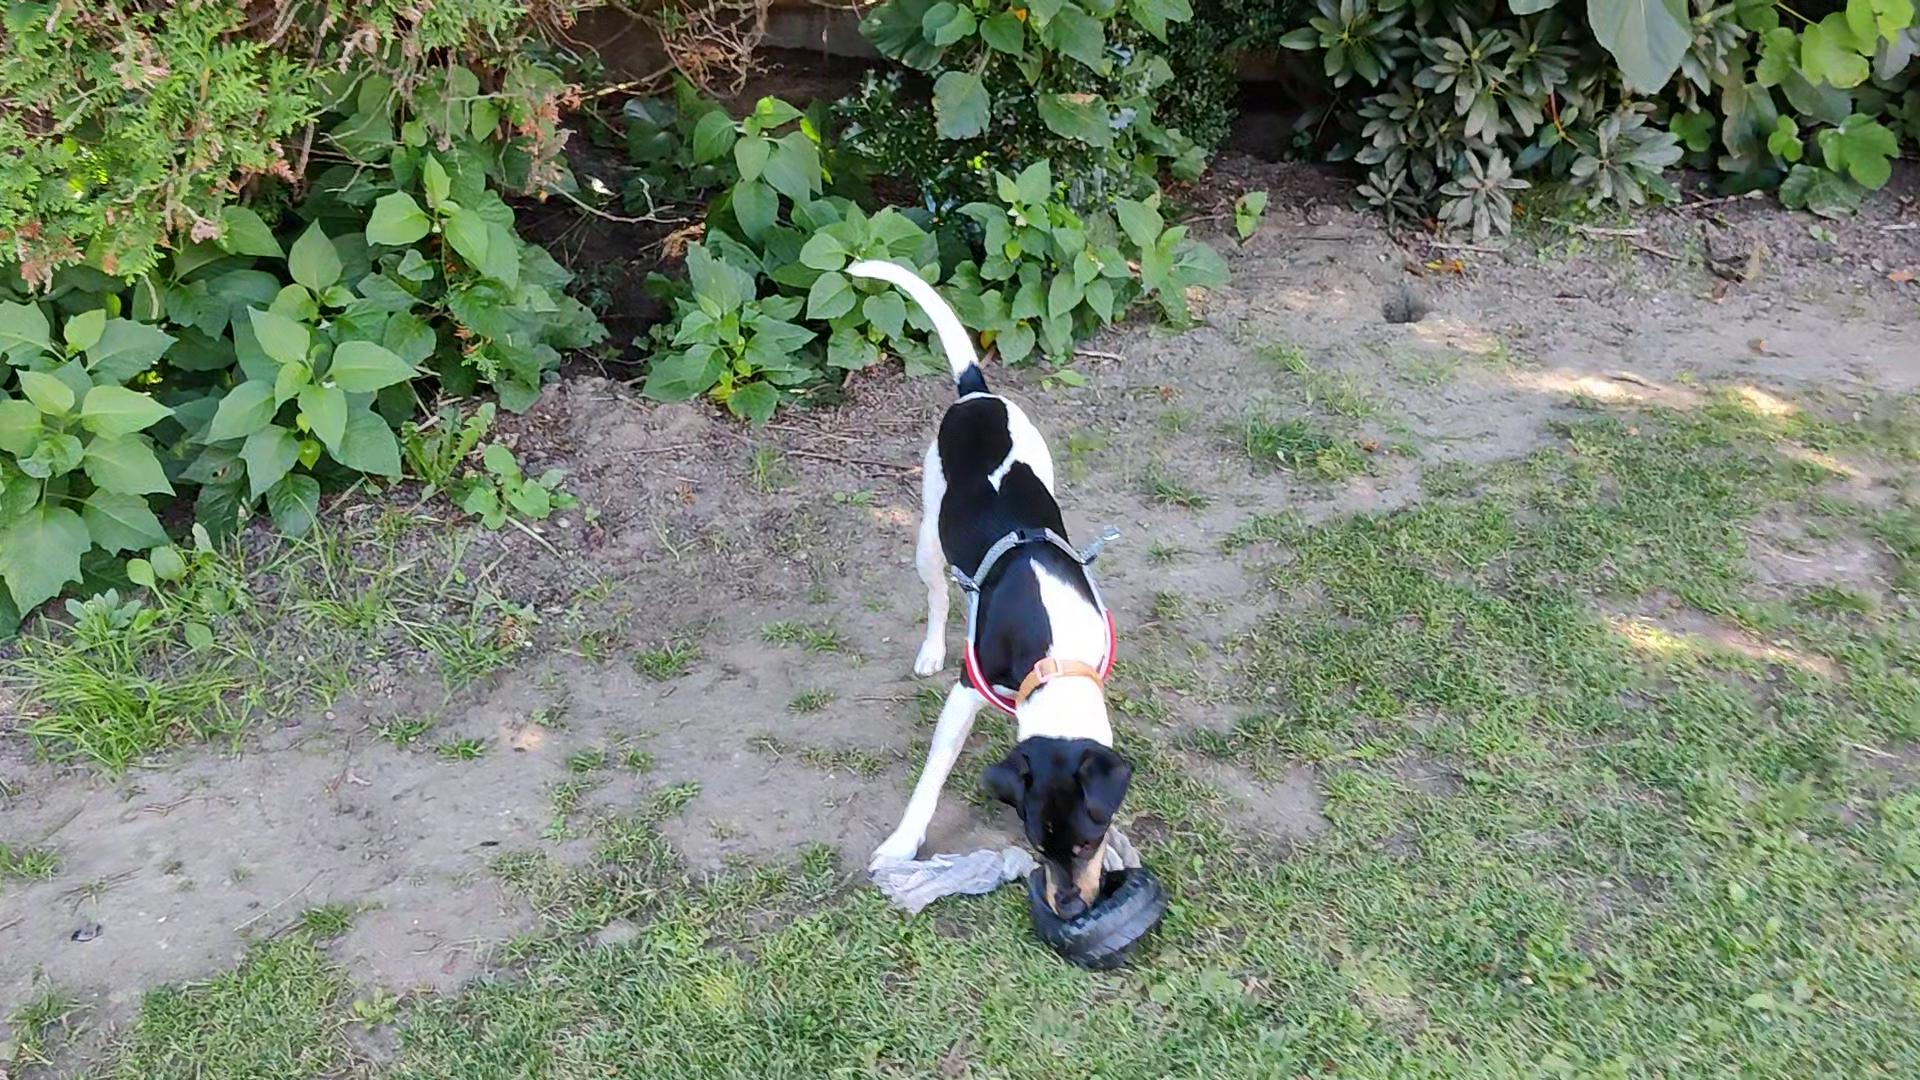Dog: (816, 248, 1163, 938)
